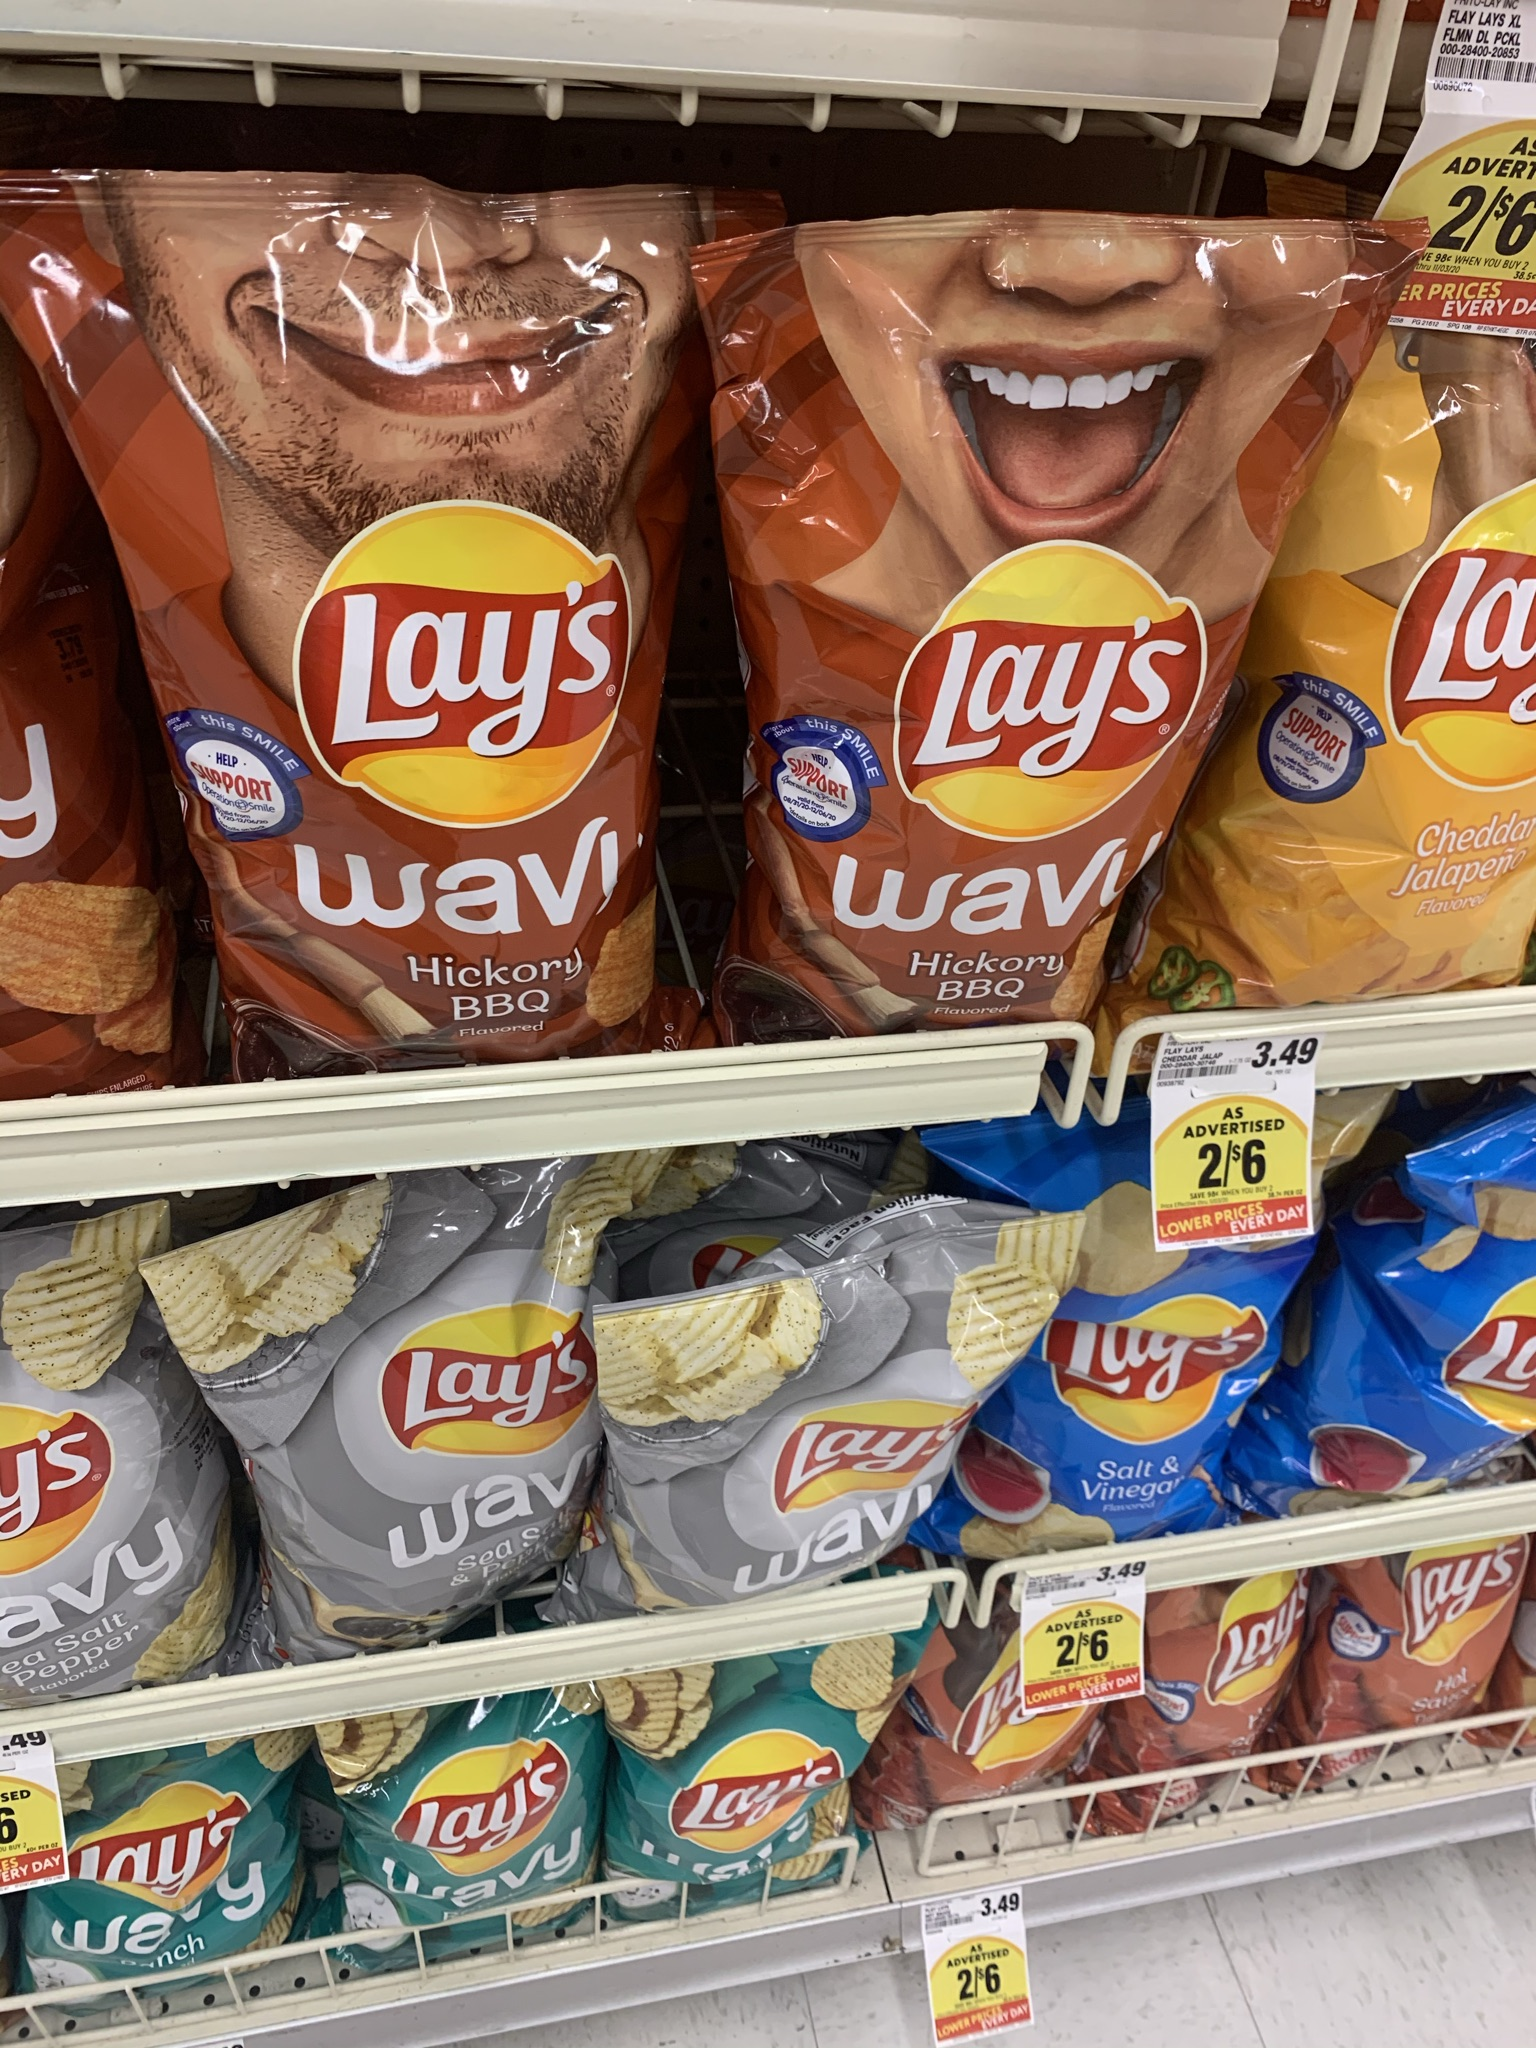Chips: (1329, 1532, 1520, 1748)
